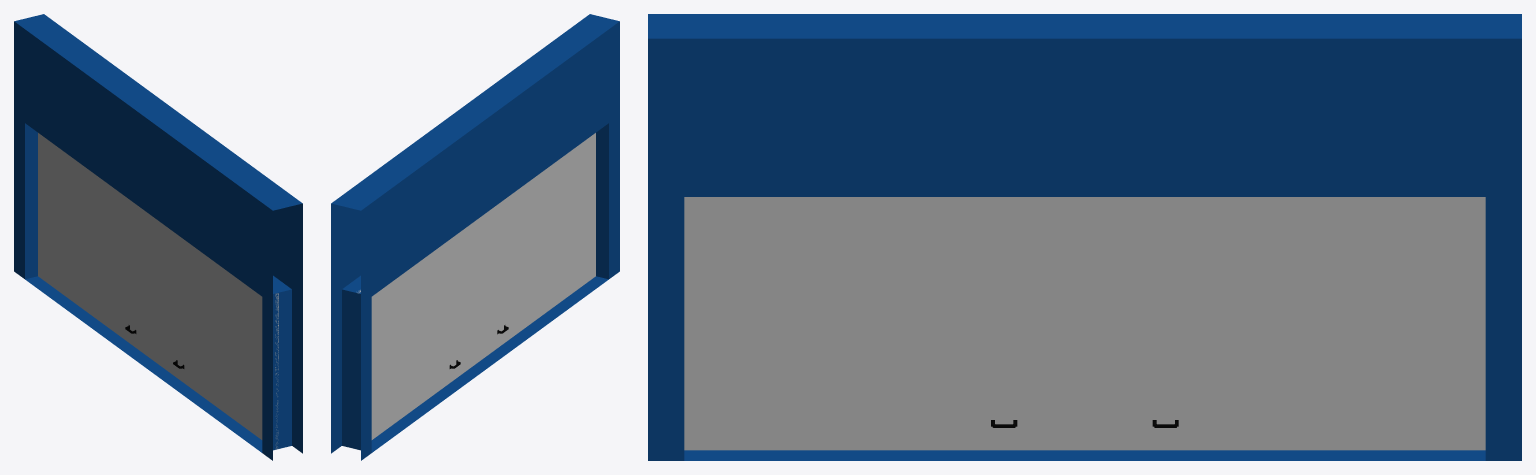
The model's file is Door_Garage02.fbx.
3 views of the same model, side by side, from view 1: azimuth 30°, elevation 25°; view 2: azimuth 150°, elevation 25°; view 3: azimuth 270°, elevation 25° (orthographic). The views are drawn at different scales.
Visible parts, largest first — view 1: Door_Garage02, G_Door_02; view 2: Door_Garage02, G_Door_02; view 3: G_Door_02, Door_Garage02.
Part boxes in pixels (x1,y1,x2,y2): Door_Garage02: (14,14,302,460); G_Door_02: (38,133,278,448); Door_Garage02: (331,14,619,460); G_Door_02: (357,133,595,439); G_Door_02: (684,197,1485,450); Door_Garage02: (648,14,1521,460).
Bounding box in the file's own units: 40 × 320 × 600.
